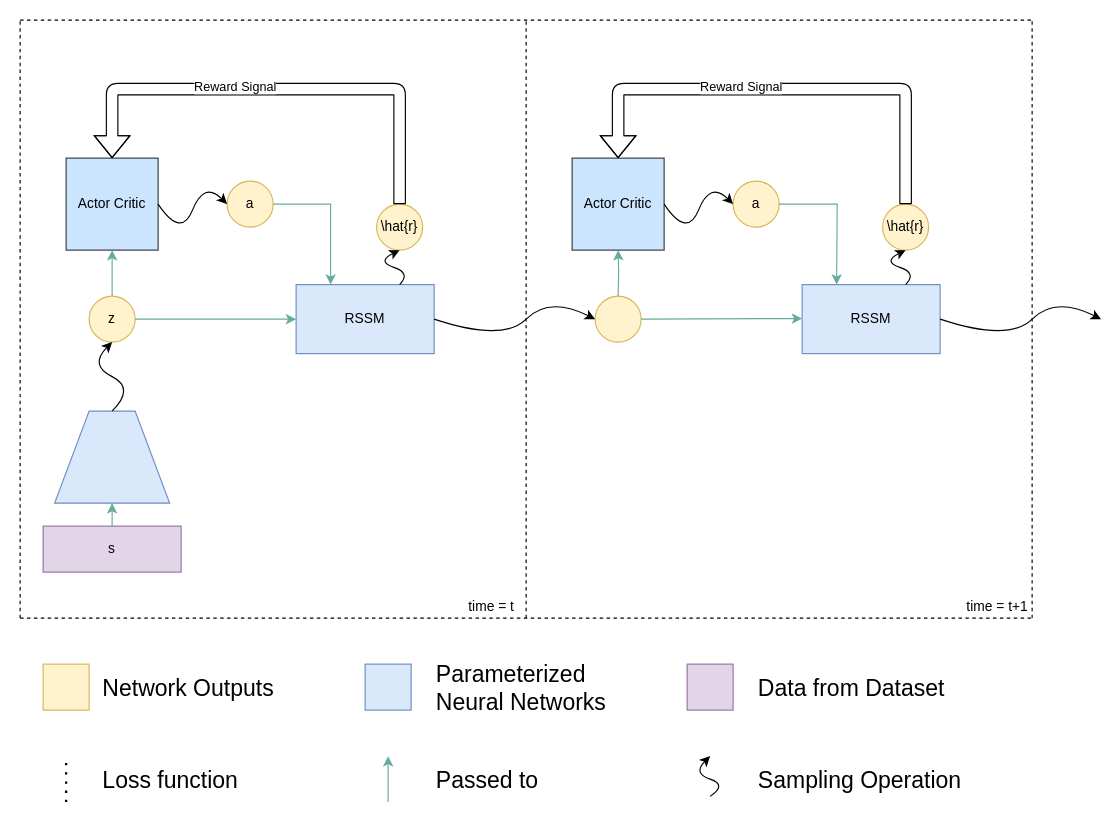
The diagram is 1120 pixels wide and 831 high, and some of its shapes have lost their labels. Here are the shapes that lost their labels. From the top down, the centre of each, then its label:
At point 617,318: "\hat{z}".
At point 111,456: "Encoder".
